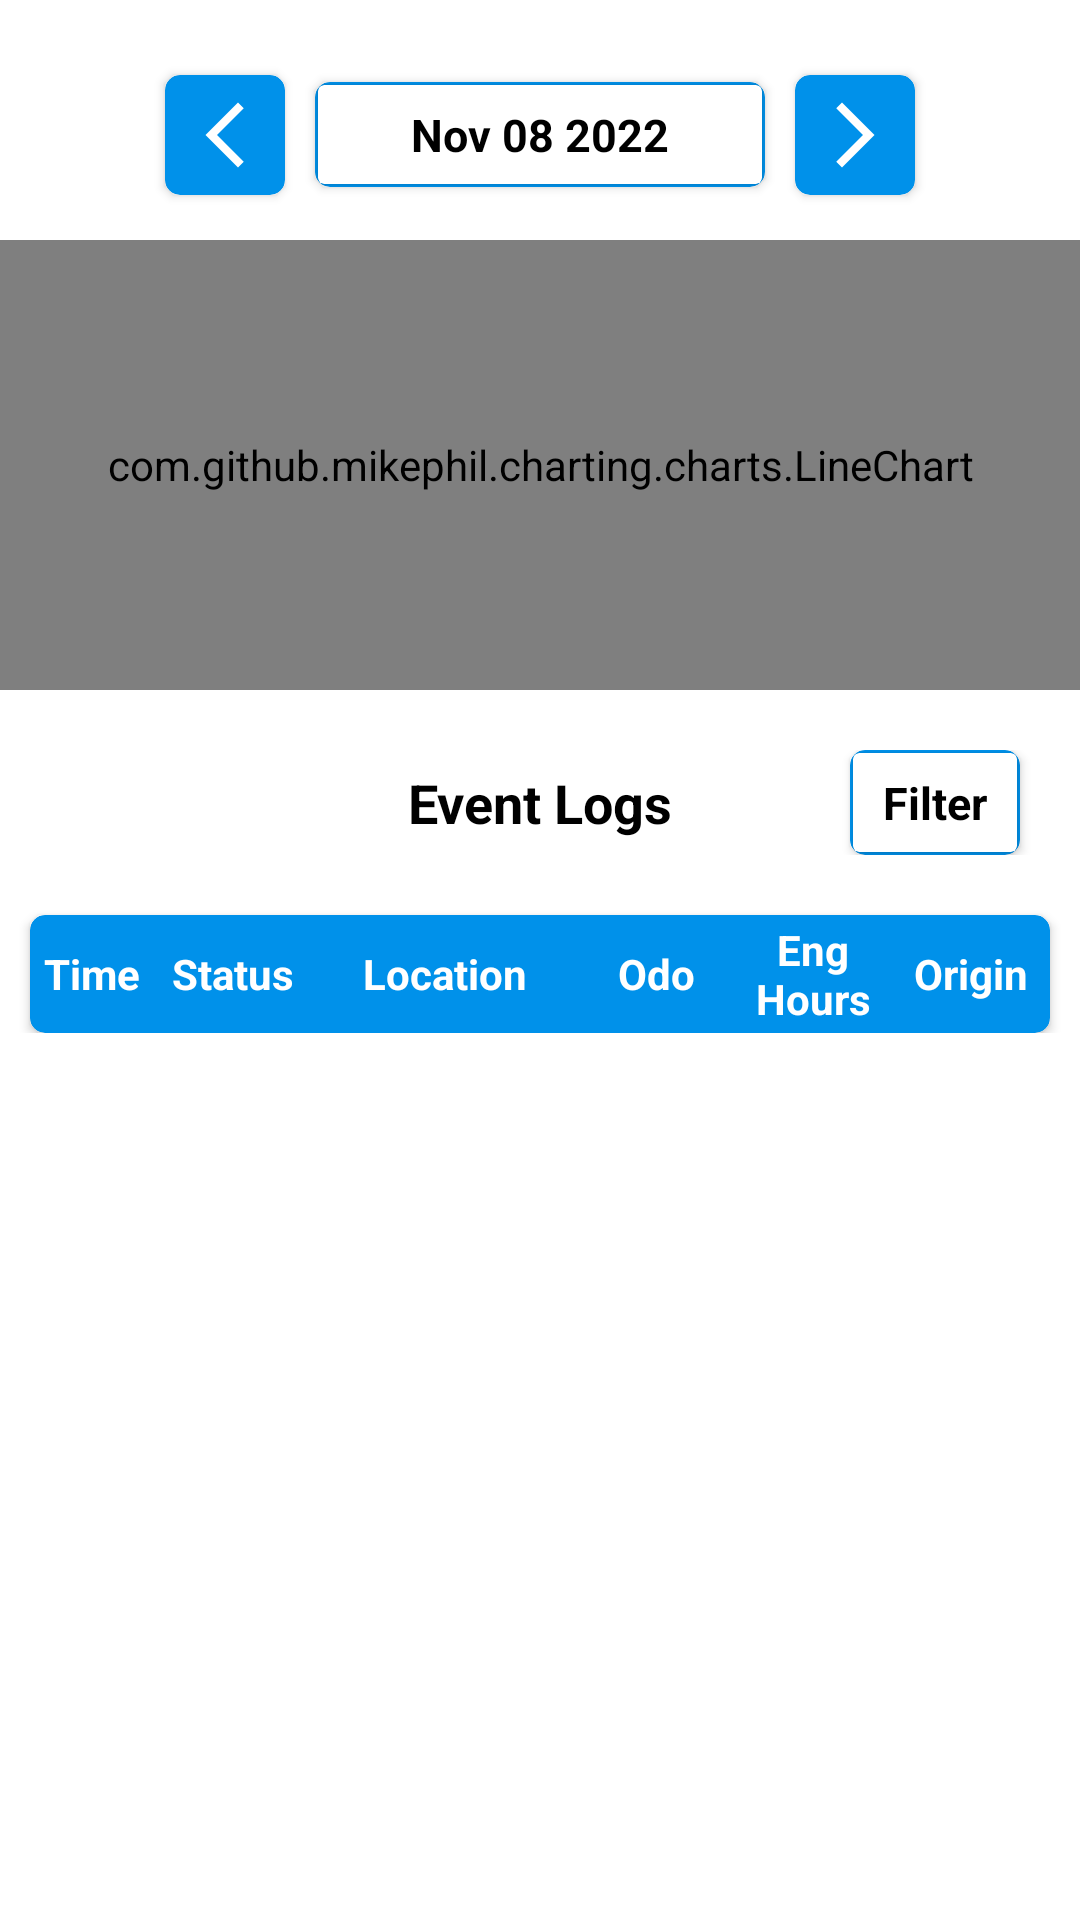

Point at icon controls on the screen. Image size 1080x1920, points as (x=x, y=y).
arrow back: (x=224, y=135)
arrow forward: (x=855, y=135)
